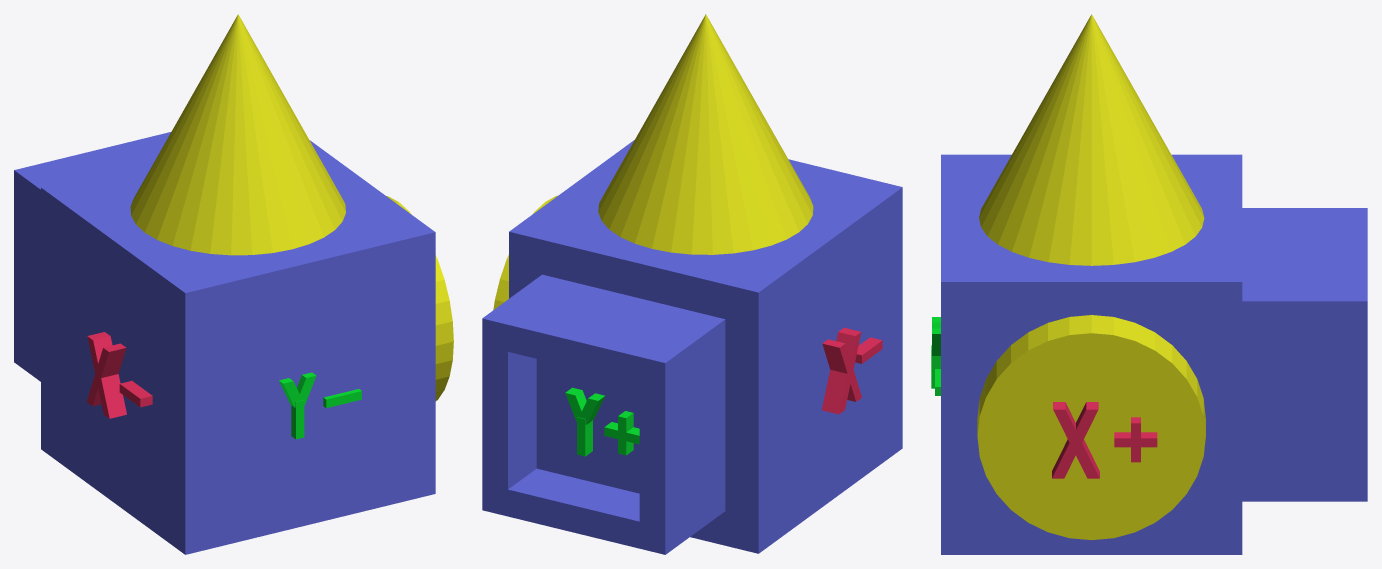
File: DirectionTest.gltf
The picture shows the model from 3 angles, left to right: view 1: azimuth 30°, elevation 25°; view 2: azimuth 150°, elevation 25°; view 3: azimuth 270°, elevation 25°; orthographic projection. The views are drawn at different scales.
Visible parts, largest first — view 1: Cube, Cone, Cylinder, Cube.006, Cube.005, Cube.007; view 2: Cube, Cone, Cube.005, Cube.006, Cube.013, Cylinder, Cube.016; view 3: Cube, Cylinder, Cone, Cube.002, Cube.001, Cube.003.
Boxes of the visible parts, x1=… form: Cube: x1=14, y1=132, x2=435, y2=554; Cone: x1=130, y1=14, x2=345, y2=255; Cylinder: x1=386, y1=196, x2=453, y2=401; Cube.006: x1=87, y1=332, x2=126, y2=418; Cube.005: x1=87, y1=343, x2=126, y2=406; Cube.007: x1=119, y1=381, x2=152, y2=407; Cube: x1=482, y1=140, x2=902, y2=554; Cone: x1=598, y1=14, x2=813, y2=254; Cube.005: x1=822, y1=327, x2=861, y2=414; Cube.006: x1=822, y1=339, x2=861, y2=401; Cube.013: x1=577, y1=417, x2=592, y2=456; Cylinder: x1=493, y1=195, x2=557, y2=309; Cube.016: x1=618, y1=411, x2=633, y2=455; Cube: x1=941, y1=154, x2=1367, y2=554; Cylinder: x1=977, y1=315, x2=1205, y2=540; Cone: x1=979, y1=14, x2=1204, y2=265; Cube.002: x1=1052, y1=402, x2=1098, y2=478; Cube.001: x1=1053, y1=402, x2=1099, y2=478; Cube.003: x1=1114, y1=432, x2=1157, y2=447.
Size of the model in its own units: 2.54 by 3.5 by 2.9.
